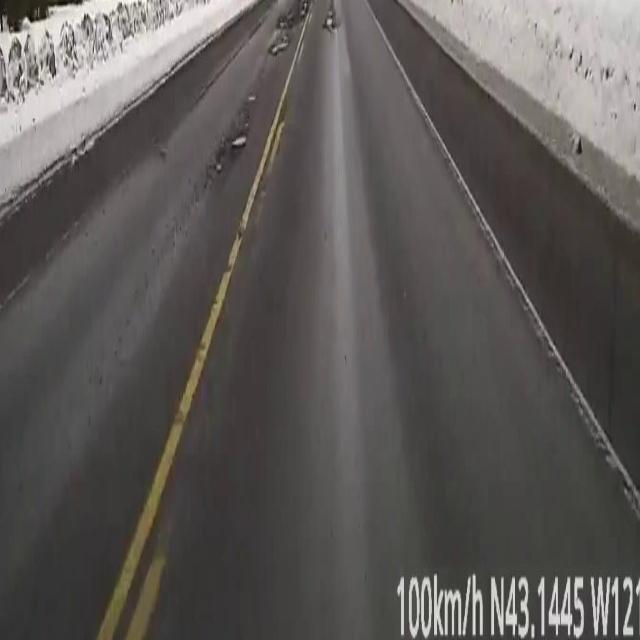pothole: (268, 19, 288, 54), (230, 130, 247, 149), (323, 6, 332, 32), (298, 0, 308, 17)
